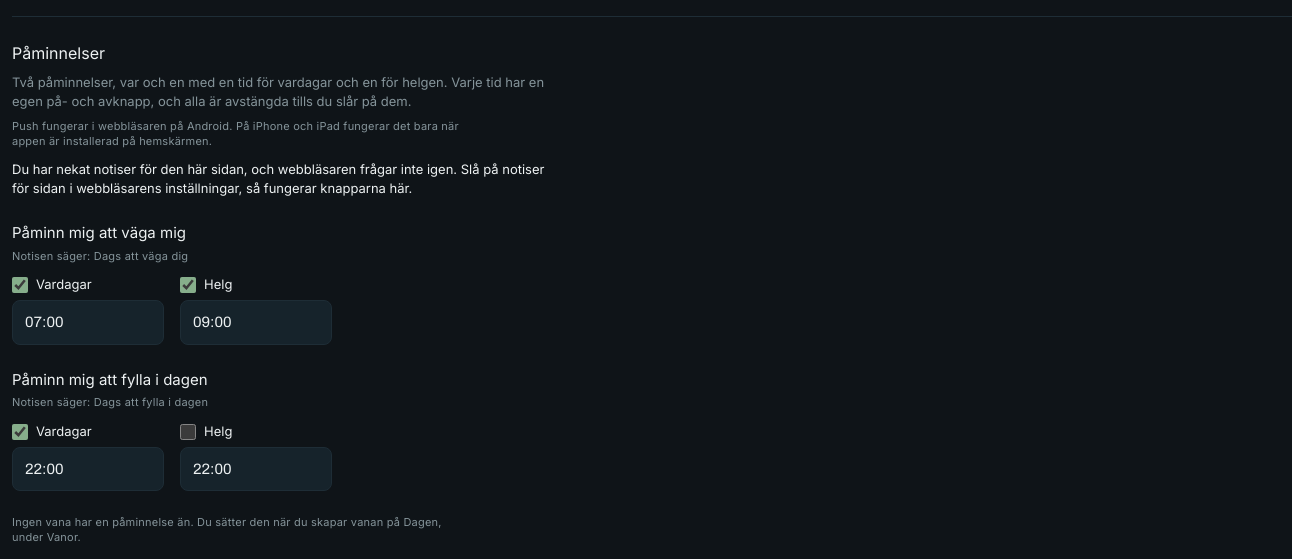
the two times › restores the shown time when what was typed is not a time
The width and height of the screenshot is (1292, 559).
Replace the text in the field with test id "remind-weigh-weekend-time" with "kvart i" at (256, 323), box [180,300,332,345]
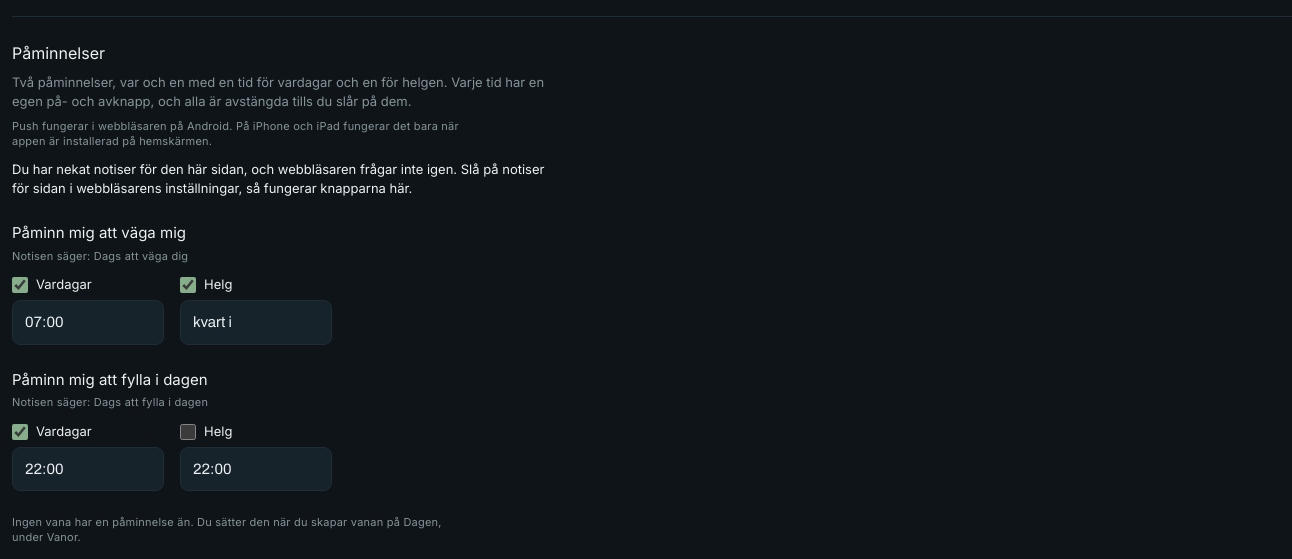
Leave the field with test id "remind-weigh-weekend-time", box [180,300,332,345]
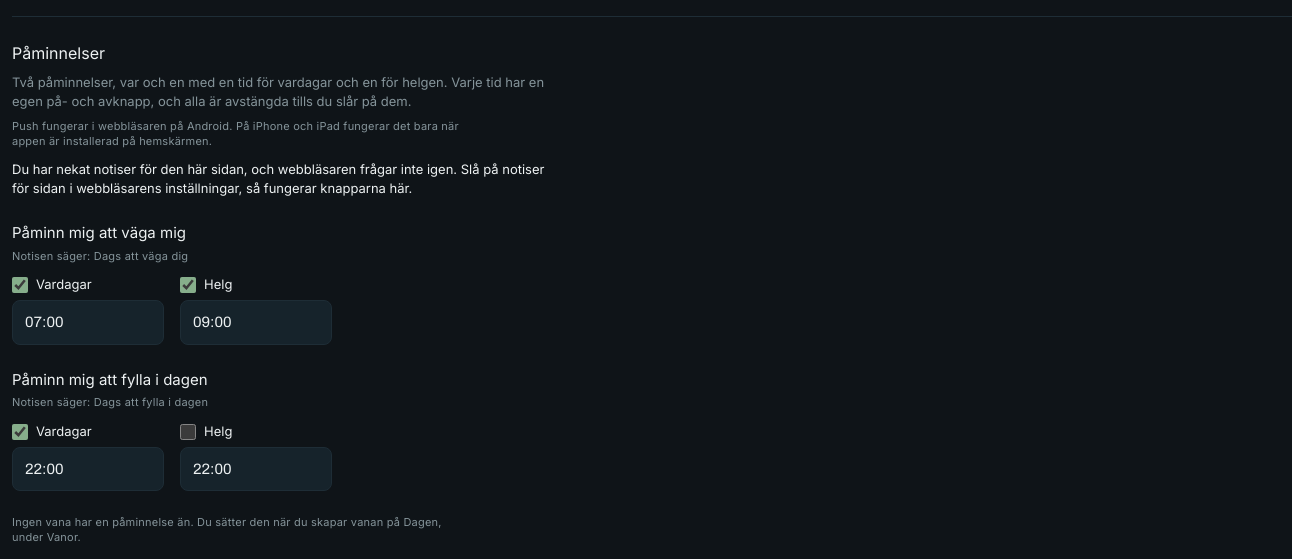
Result: the field with test id "remind-weigh-weekend-time" holds "09:00" at [180,300,332,345]
